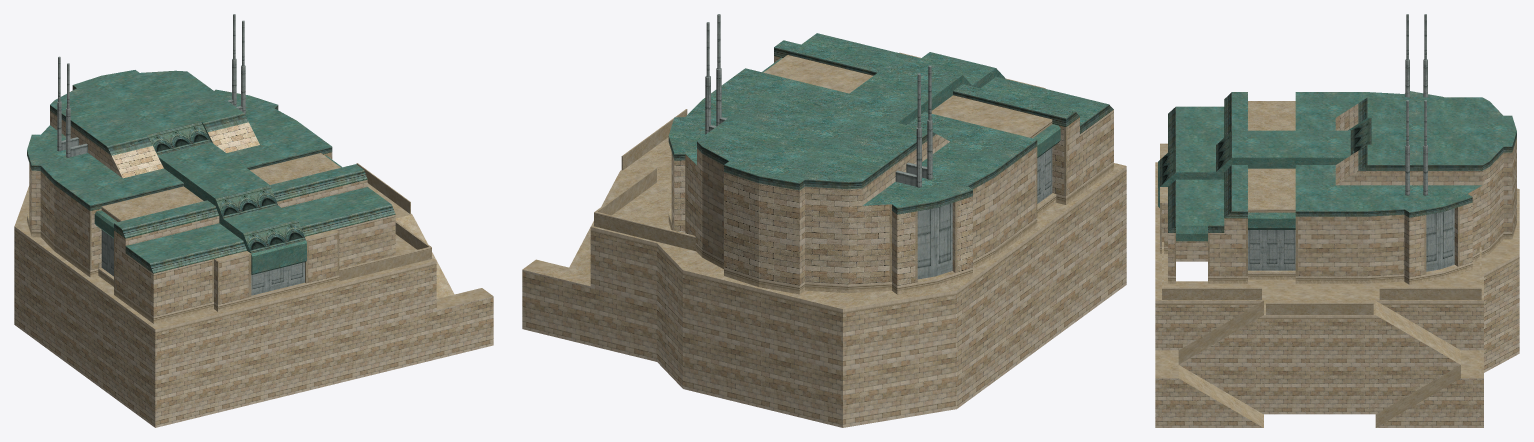
Rendered from ply_nboo_hospital_s01_r0_exterior_mesh_l0.fbx.
3 views of the same model, side by side, from view 1: azimuth 30°, elevation 25°; view 2: azimuth 150°, elevation 25°; view 3: azimuth 270°, elevation 25° (orthographic). The views are drawn at different scales.
Parts seen in each view (by area): view 1: mesh_node; view 2: mesh_node; view 3: mesh_node.
Part boxes in pixels (left/top/right/bottom): mesh_node: left=14, top=14, right=493, bottom=427; mesh_node: left=522, top=14, right=1126, bottom=427; mesh_node: left=1155, top=14, right=1519, bottom=427.
Size of the model in its own units: 24.65 by 18.35 by 22.78.
